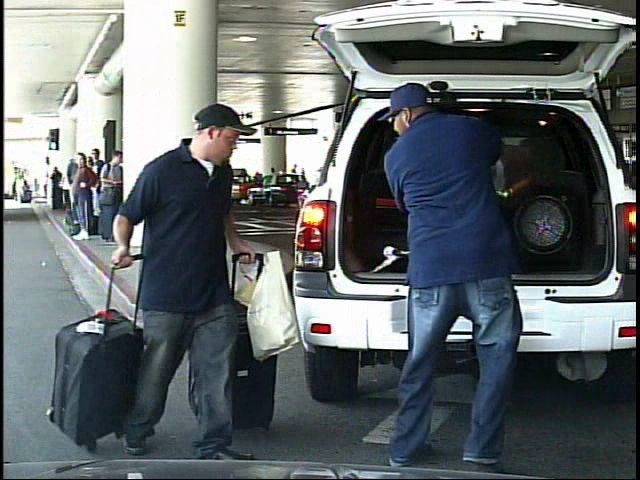person: (368, 75, 553, 477), (117, 107, 264, 457), (287, 162, 300, 194), (16, 172, 27, 203)
